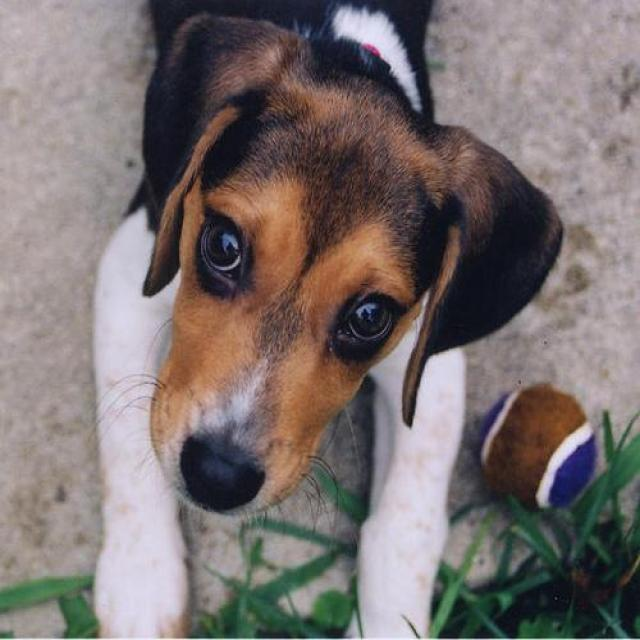beagle: (90, 1, 567, 638)
